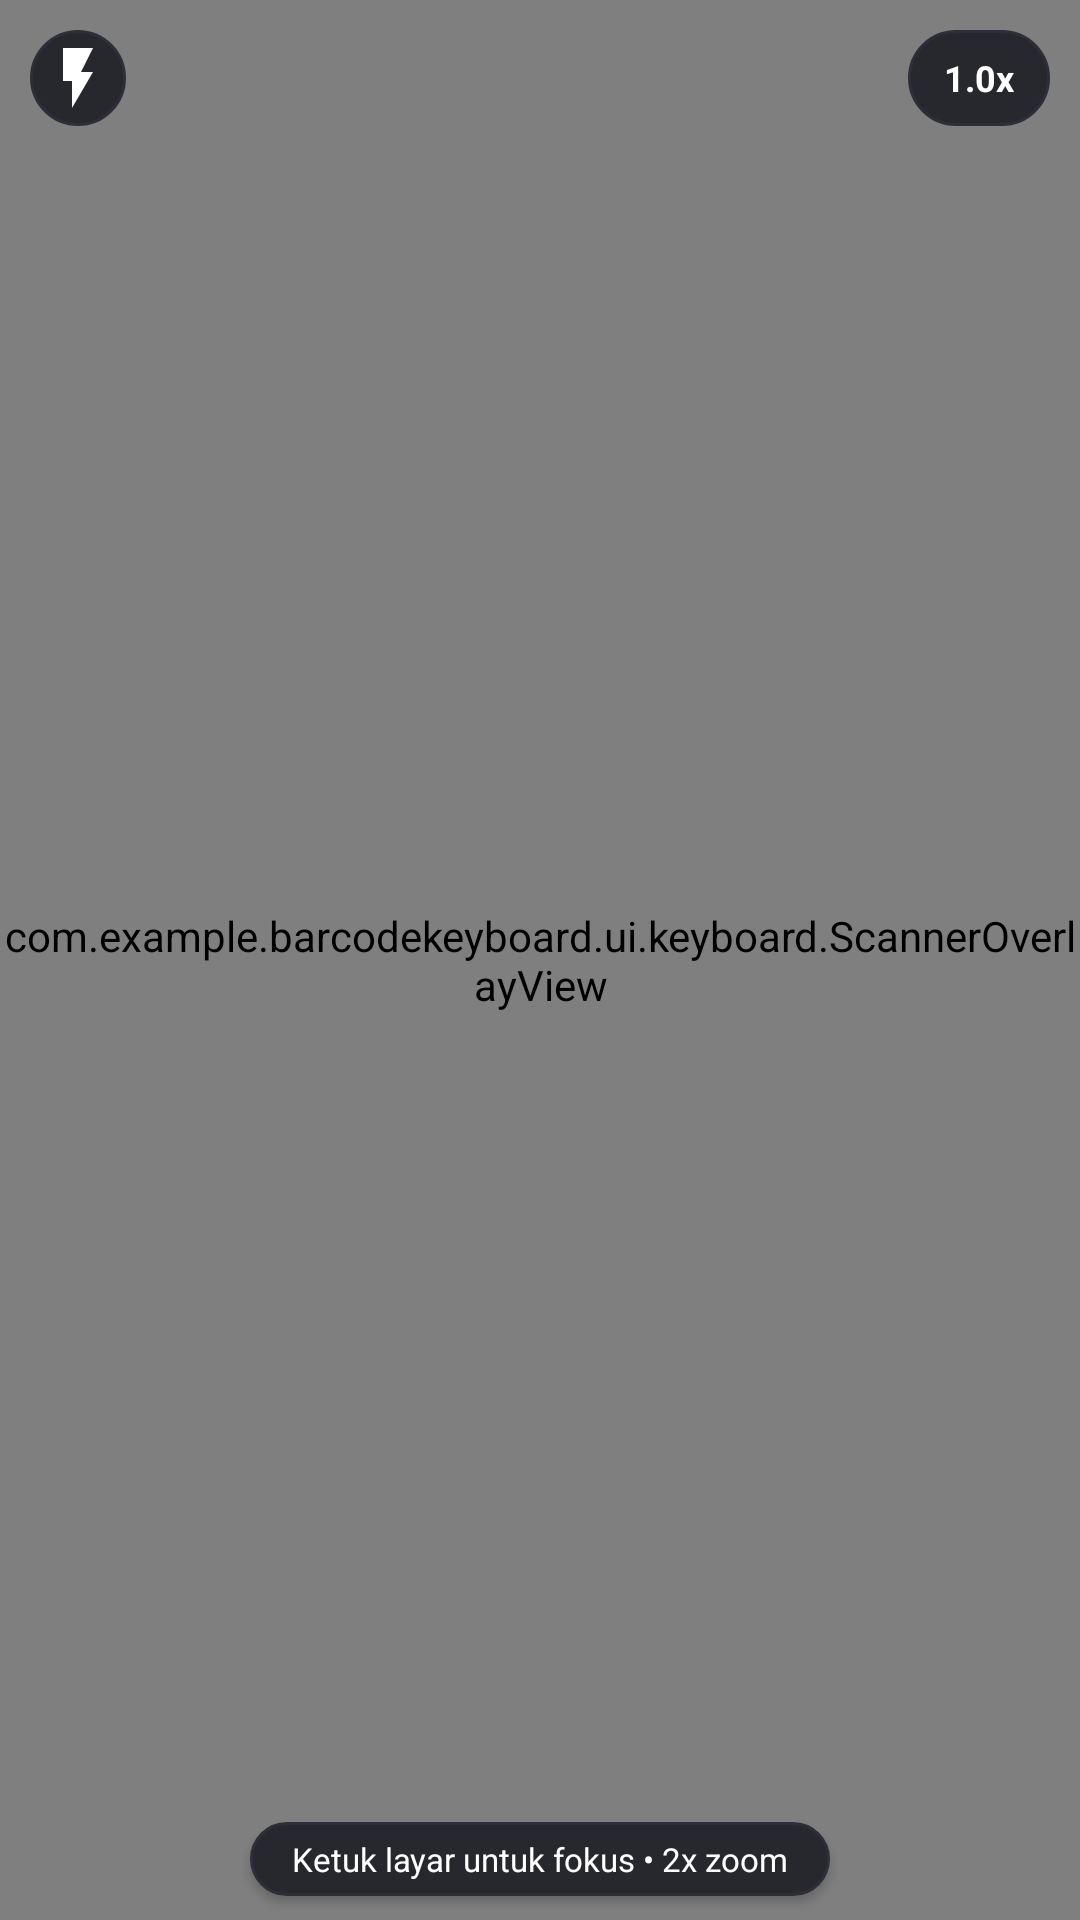

Point at icon controls on the screen. Image size 1080*1920, points as (x,y).
Senter: (78,78)
